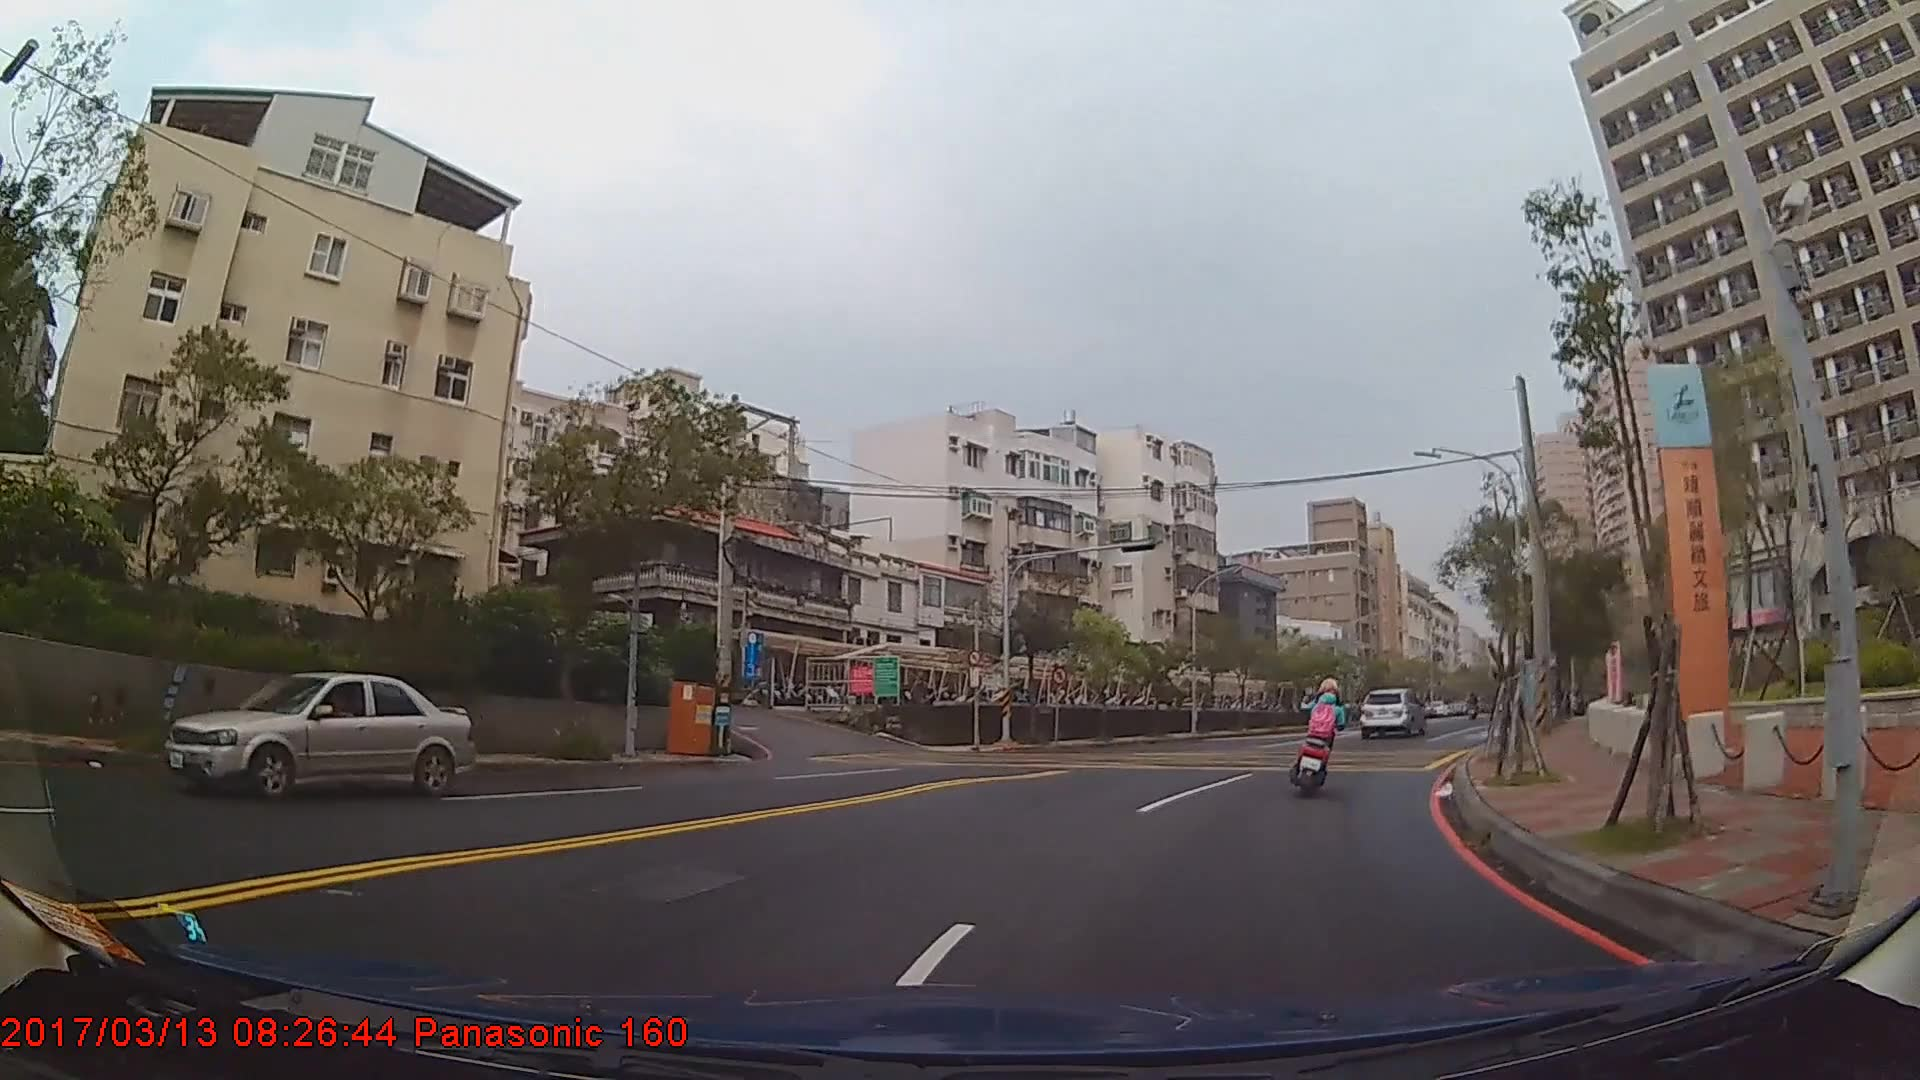rider: (1291, 676, 1350, 792)
vehicle: (164, 671, 475, 802), (1357, 687, 1423, 738)
